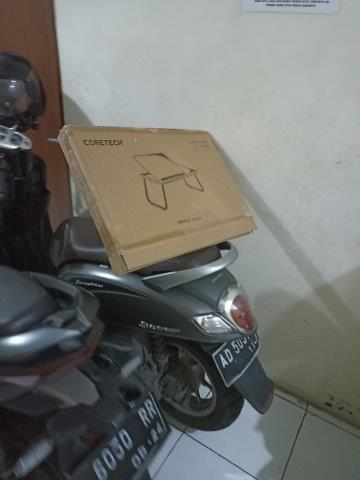kardus: (59, 126, 257, 272)
